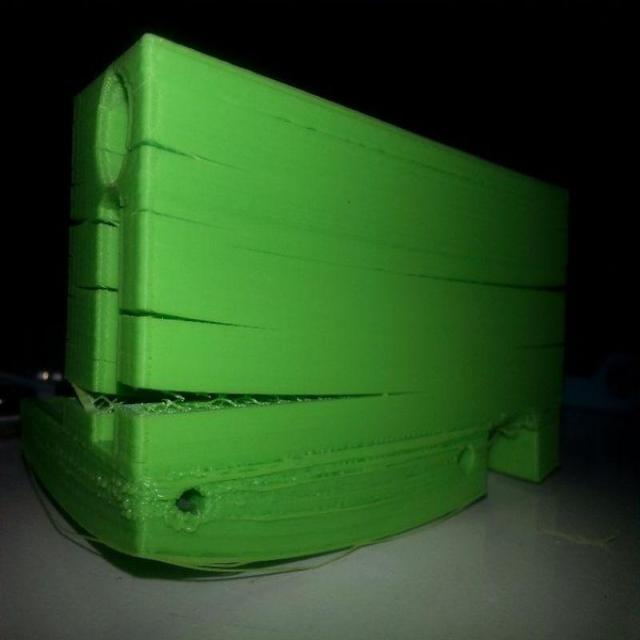Warping: (118, 375, 231, 428), (102, 540, 224, 584), (496, 268, 574, 300), (127, 126, 186, 163), (122, 296, 176, 328), (76, 207, 121, 239), (86, 271, 121, 302), (120, 495, 134, 514), (111, 474, 123, 491), (121, 509, 135, 522), (100, 479, 110, 493), (114, 492, 122, 504)
